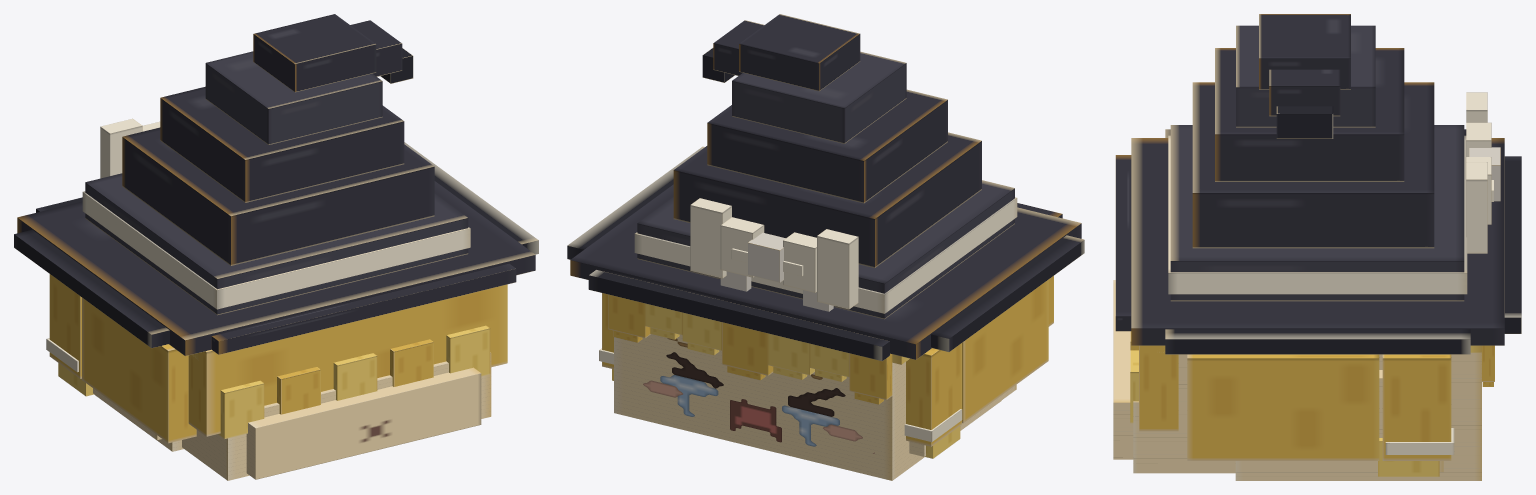
Rendered from compression_marisa_2.obj.
3 views of the same model, side by side, from view 1: azimuth 30°, elevation 25°; view 2: azimuth 150°, elevation 25°; view 3: azimuth 270°, elevation 25° (orthographic). The views are drawn at different scales.
Parts seen in each view (by area): view 1: compression_marisa_2; view 2: compression_marisa_2; view 3: compression_marisa_2.
Part boxes in pixels (left/top/right/bottom): compression_marisa_2: left=14, top=14, right=538, bottom=480; compression_marisa_2: left=567, top=14, right=1084, bottom=480; compression_marisa_2: left=1113, top=14, right=1521, bottom=480.
Size of the model in its own units: 19 by 16.29 by 15.61.
Materials: 1 (1 with a texture image).
